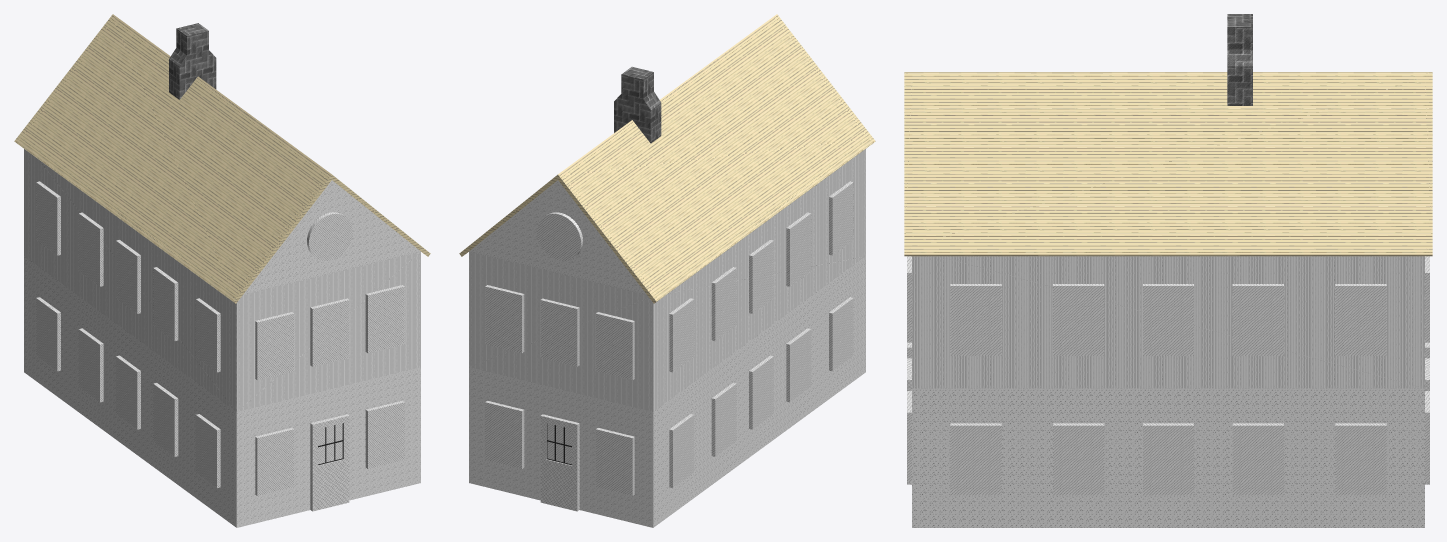
Rendered from simplehouse.glb.
3 views of the same model, side by side, from view 1: azimuth 30°, elevation 25°; view 2: azimuth 150°, elevation 25°; view 3: azimuth 270°, elevation 25° (orthographic). The views are drawn at different scales.
Parts seen in each view (by area): view 1: 3DGeom-1, 3DGeom-4, 3DGeom-3, 3DGeom-5, 3DGeom-15, 3DGeom-11, 3DGeom-14, 3DGeom-9, 3DGeom-13, 3DGeom-12, 3DGeom-10, 3DGeom-26 (+10 smaller); view 2: 3DGeom-1, 3DGeom-4, 3DGeom-3, 3DGeom-5, 3DGeom-15, 3DGeom-23, 3DGeom-25, 3DGeom-24, 3DGeom-20, 3DGeom-22, 3DGeom-21, 3DGeom-27 (+10 smaller); view 3: 3DGeom-1, 3DGeom-4, 3DGeom-3, 3DGeom-36, 3DGeom-40, 3DGeom-37, 3DGeom-39, 3DGeom-41, 3DGeom-42, 3DGeom-44, 3DGeom-45, 3DGeom-38 (+2 smaller).
Part boxes in pixels (box(x1,y1,x2,y2)): 3DGeom-1: box(14, 14, 430, 303); 3DGeom-4: box(24, 180, 420, 527); 3DGeom-3: box(24, 149, 420, 411); 3DGeom-5: box(310, 414, 349, 511); 3DGeom-15: box(169, 23, 216, 99); 3DGeom-11: box(255, 428, 294, 495); 3DGeom-14: box(310, 298, 349, 366); 3DGeom-9: box(365, 285, 404, 353); 3DGeom-13: box(255, 312, 294, 380); 3DGeom-12: box(365, 401, 404, 468); 3DGeom-10: box(307, 212, 352, 260); 3DGeom-26: box(195, 414, 220, 488); 3DGeom-1: box(459, 14, 875, 303); 3DGeom-4: box(469, 180, 865, 527); 3DGeom-3: box(469, 149, 865, 411); 3DGeom-5: box(540, 414, 579, 511); 3DGeom-15: box(614, 66, 661, 143); 3DGeom-23: box(595, 428, 634, 495); 3DGeom-25: box(540, 298, 579, 366); 3DGeom-24: box(485, 285, 524, 353); 3DGeom-20: box(595, 312, 634, 380); 3DGeom-22: box(485, 401, 524, 468); 3DGeom-21: box(537, 212, 582, 260); 3DGeom-27: box(786, 328, 811, 402); 3DGeom-1: box(904, 72, 1432, 256); 3DGeom-4: box(912, 388, 1424, 527); 3DGeom-3: box(912, 256, 1424, 388); 3DGeom-36: box(950, 423, 1001, 495); 3DGeom-40: box(1335, 423, 1386, 495); 3DGeom-37: box(1053, 423, 1104, 495); 3DGeom-39: box(1232, 423, 1283, 495); 3DGeom-41: box(950, 284, 1001, 355); 3DGeom-42: box(1053, 284, 1104, 355); 3DGeom-44: box(1232, 284, 1283, 355); 3DGeom-45: box(1335, 284, 1386, 355); 3DGeom-38: box(1143, 423, 1193, 495).
Bounding box in the file's own units: 5.35 × 9.75 × 10.3.
Materials: 8 (8 with a texture image).
